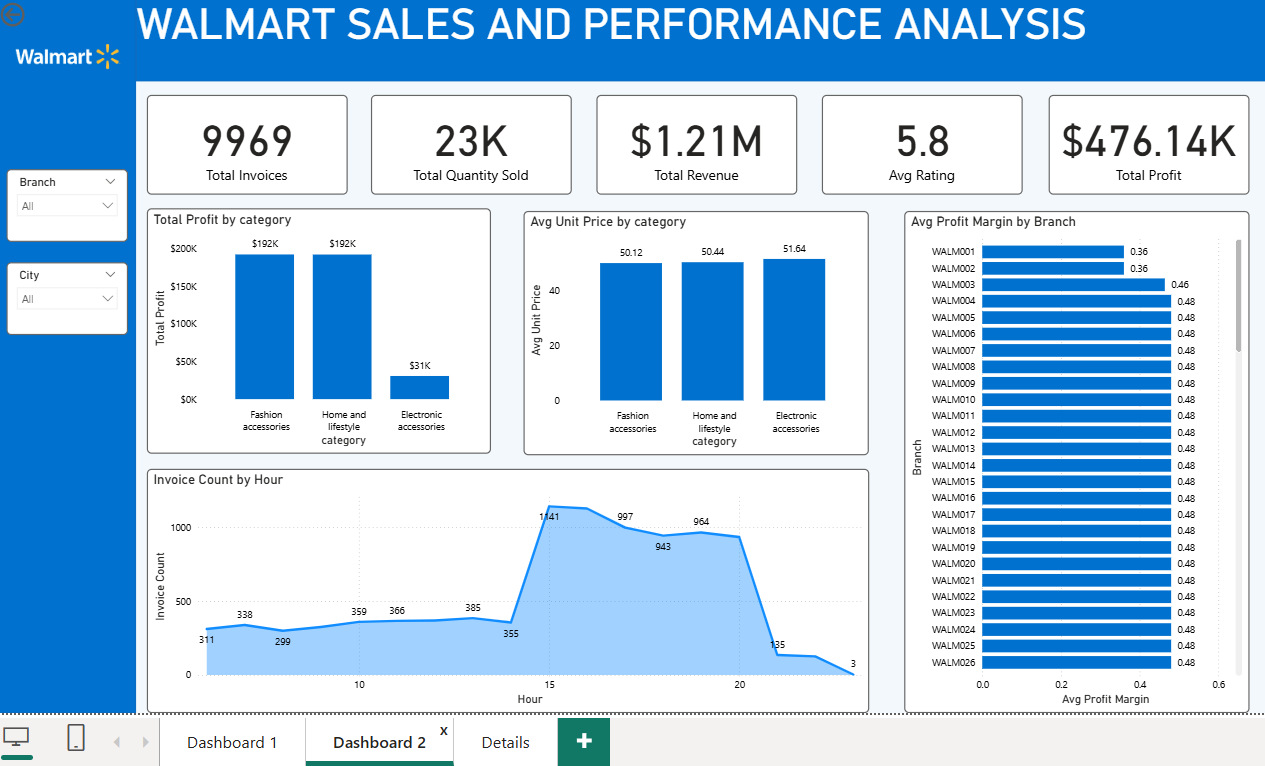

What the dashboard file says about the page in this screenshot:
{"tool":"powerbi","page":{"name":"Dashboard 2","canvas":[1600,900],"ordinal":1},"visuals":[{"type":"shape","box":[175.4,0,1425.1,103.9],"z":0},{"type":"shape","box":[0,0,175.4,900.7],"z":1000},{"type":"card","fields":{"Values":["cleaned walmart data.Total Invoices"]},"box":[189,120.9,253.7,126],"z":2000},{"type":"card","fields":{"Values":["cleaned walmart data.Total Quantity Sold"]},"box":[471.6,120.9,253.7,126],"z":3000},{"type":"card","fields":{"Values":["cleaned walmart data.Total Revenue"]},"box":[756,120.9,253.7,126],"z":4000},{"type":"card","fields":{"Values":["cleaned walmart data.Avg Rating"]},"box":[1040.3,120.9,253.7,126],"z":5000},{"type":"card","fields":{"Values":["cleaned walmart data.Total Profit"]},"box":[1326.4,120.9,253.7,126],"z":6000},{"type":"clusteredColumnChart","fields":{"Category":["cleaned walmart data.category"],"Y":["cleaned walmart data.Total Profit"]},"box":[189,263.9,434.2,309.9],"z":7000},{"type":"lineChart","fields":{"Y":["cleaned walmart data.Invoice Count"],"Category":["cleaned walmart data.Hour"]},"box":[189,592.5,910.9,308.2],"z":8000},{"type":"clusteredBarChart","fields":{"Category":["cleaned walmart data.Branch"],"Y":["cleaned walmart data.Avg Profit Margin"]},"box":[1144.2,267.3,435.9,633.4],"z":9000},{"type":"clusteredColumnChart","fields":{"Category":["cleaned walmart data.category"],"Y":["cleaned walmart data.Avg Unit Price"]},"box":[664,267.3,435.9,308.2],"z":10000},{"type":"actionButton","box":[0,0,100,40],"z":11000},{"type":"slicer","fields":{"Values":["cleaned walmart data.Branch"]},"box":[11.9,214.8,153.2,91.9],"z":11001},{"type":"slicer","fields":{"Values":["cleaned walmart data.City"]},"box":[11.9,332.6,153.2,91.9],"z":11002},{"type":"image","box":[1.7,0,175.4,144.7],"z":11003}]}

Visuals, with their boxes on the page's 1600x900 design canvas (x1, y1, x2, y2). These are canvas units, not pixel positions in the 1265x766 screenshot, which may show the page scaled, cropped or inside an application window:
shape: (175,0,1600,104)
shape: (0,0,175,901)
card - cleaned walmart data.Total Invoices: (189,121,443,247)
card - cleaned walmart data.Total Quantity Sold: (472,121,725,247)
card - cleaned walmart data.Total Revenue: (756,121,1010,247)
card - cleaned walmart data.Avg Rating: (1040,121,1294,247)
card - cleaned walmart data.Total Profit: (1326,121,1580,247)
clusteredColumnChart - cleaned walmart data.category x cleaned walmart data.Total Profit: (189,264,623,574)
lineChart - cleaned walmart data.Invoice Count x cleaned walmart data.Hour: (189,592,1100,901)
clusteredBarChart - cleaned walmart data.Branch x cleaned walmart data.Avg Profit Margin: (1144,267,1580,901)
clusteredColumnChart - cleaned walmart data.category x cleaned walmart data.Avg Unit Price: (664,267,1100,576)
actionButton: (0,0,100,40)
slicer - cleaned walmart data.Branch: (12,215,165,307)
slicer - cleaned walmart data.City: (12,333,165,424)
image: (2,0,177,145)
